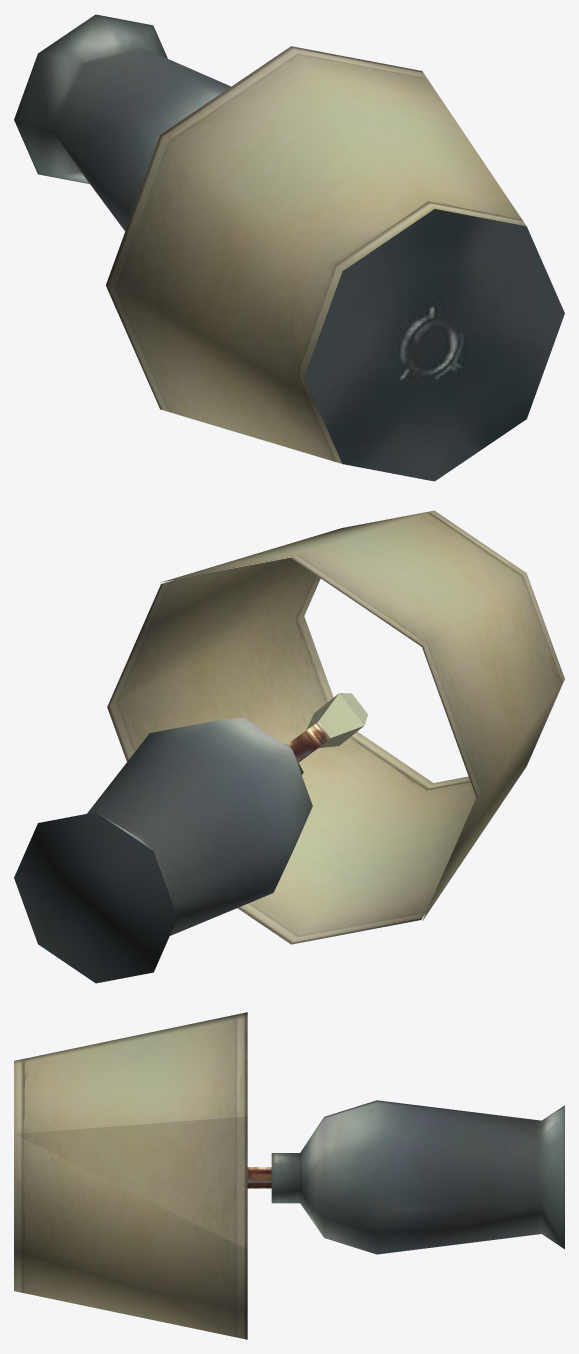
The model's file is light_lampplain_on.glb.
The picture shows the model from 3 angles, top to bottom: view 1: azimuth 30°, elevation 25°; view 2: azimuth 150°, elevation 25°; view 3: azimuth 270°, elevation 25°; orthographic projection. The views are drawn at different scales.
Size of the model in its own units: 17.5 by 17.5 by 27.65.
Materials: 3 (3 with a texture image).
